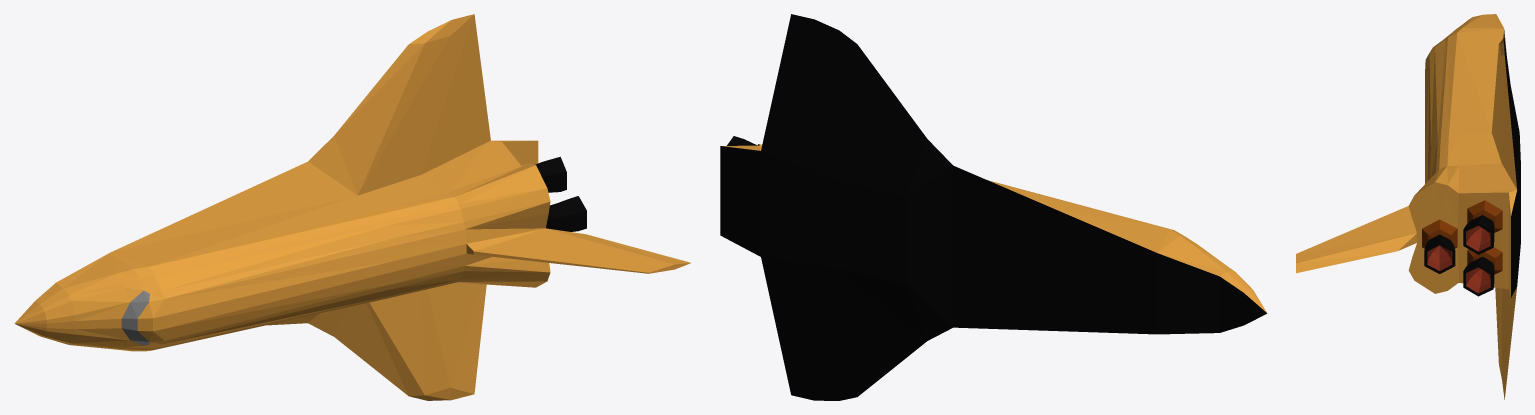
Rendered from shuttle.obj.
3 views of the same model, side by side, from view 1: azimuth 30°, elevation 25°; view 2: azimuth 150°, elevation 25°; view 3: azimuth 270°, elevation 25° (orthographic). The views are drawn at different scales.
Visible parts, largest first — view 1: body, wings, tail, engout, windows, rearbody; view 2: tiles, body; view 3: body, rearbody, tail, wings, engmount, tiles, enginside, engrim, engout.
Part boxes in pixels (box(x1,y1,x2,y2)): body: box(14, 140, 550, 351); wings: box(111, 14, 490, 400); tail: box(466, 228, 690, 273); engout: box(535, 156, 586, 231); windows: box(121, 290, 149, 345); rearbody: box(491, 140, 538, 165); tiles: box(720, 14, 1266, 400); body: box(988, 180, 1267, 313); body: box(1415, 14, 1516, 194); rearbody: box(1398, 182, 1516, 297); tail: box(1296, 206, 1416, 273); wings: box(1491, 30, 1516, 399); engmount: box(1422, 200, 1502, 274); tiles: box(1503, 38, 1520, 297); enginside: box(1427, 226, 1490, 293); engrim: box(1424, 222, 1493, 296); engout: box(1424, 215, 1494, 287).
Bounding box in the file's own units: 14.69 × 9.36 × 5.51.
